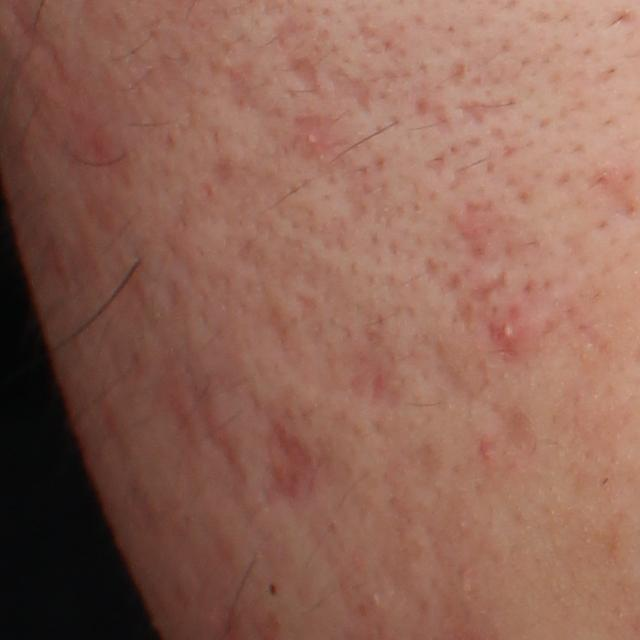atrophic_scar: (254, 412, 319, 504), (446, 195, 503, 265), (486, 399, 543, 461), (431, 340, 480, 403), (291, 113, 347, 162), (328, 68, 376, 118), (452, 98, 521, 132), (466, 271, 512, 307), (291, 55, 325, 100), (449, 63, 469, 87), (423, 155, 444, 175)
pustule: (488, 312, 533, 357)
